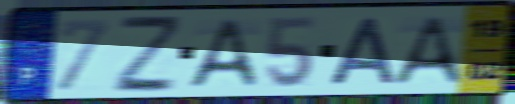5: (265, 14, 318, 90)
7: (59, 16, 113, 93)
A: (184, 16, 260, 90), (388, 14, 464, 87), (324, 16, 400, 87)
Z: (112, 13, 182, 95)
